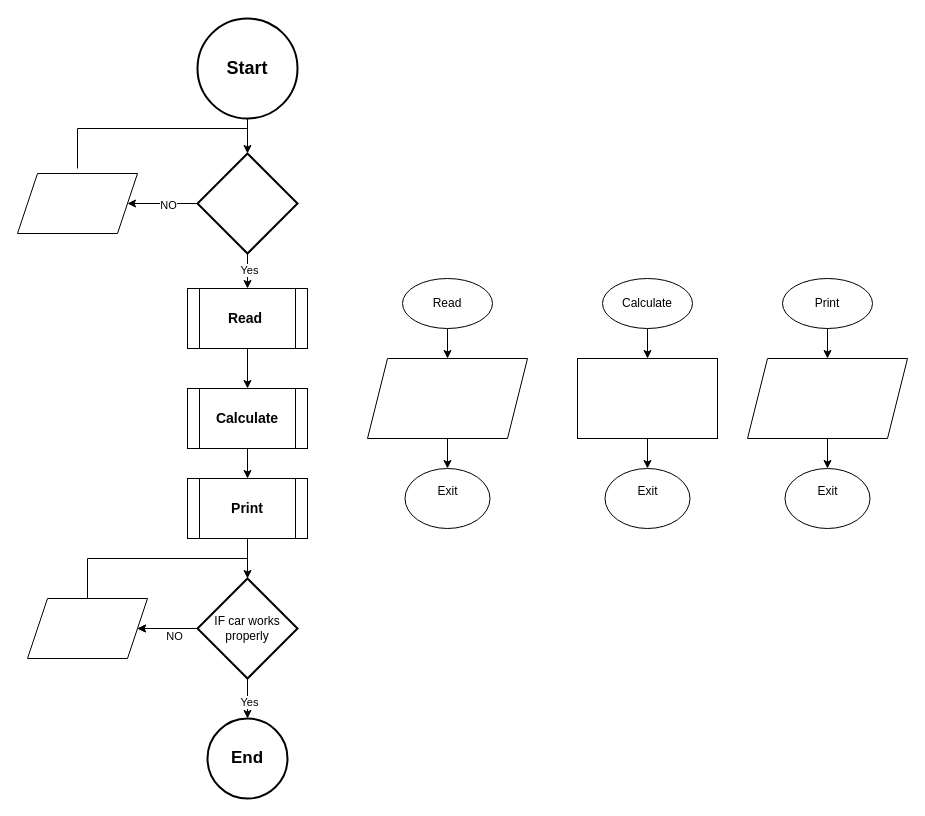
The diagram is 925 pixels wide and 816 high, and some of its shapes have lost their labels. The box of each missing label's shape, as (x1, y1, x2, y2) in pixels:
Assemble the parts like Engine, Wheels, Dorr, Mirrors etc: (576, 358, 718, 438)
Fix the Errors in car: (26, 598, 148, 658)
If Parts available: (196, 152, 298, 254)
Order the parts: (16, 172, 138, 234)
Print the car: (746, 358, 908, 438)
Read Parts Engine ,wheels, Dorr ,mirrors etc: (366, 358, 528, 438)
